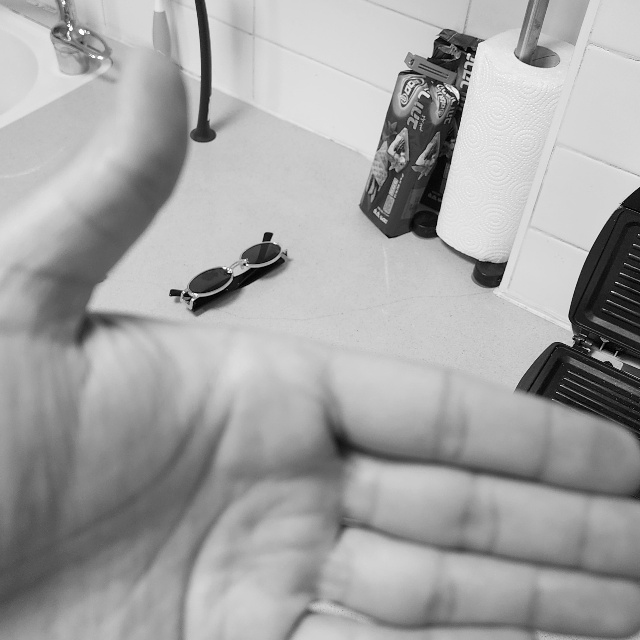glasses: (163, 224, 295, 319)
